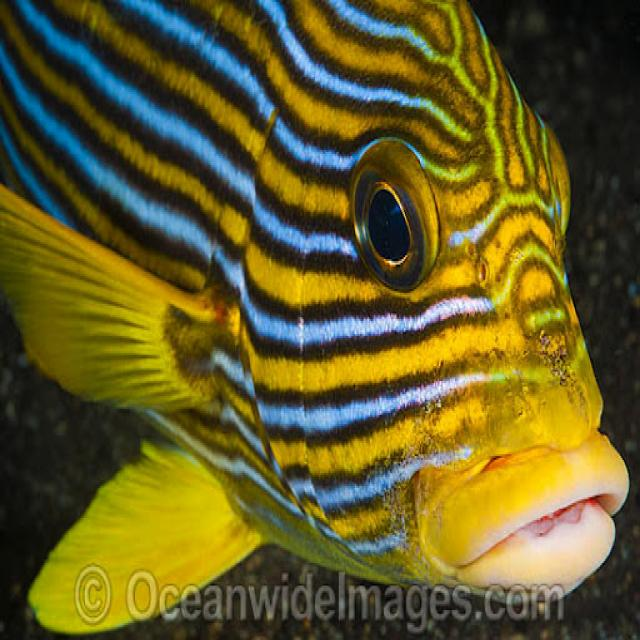RibbonedSweetlips: (0, 0, 630, 636)
